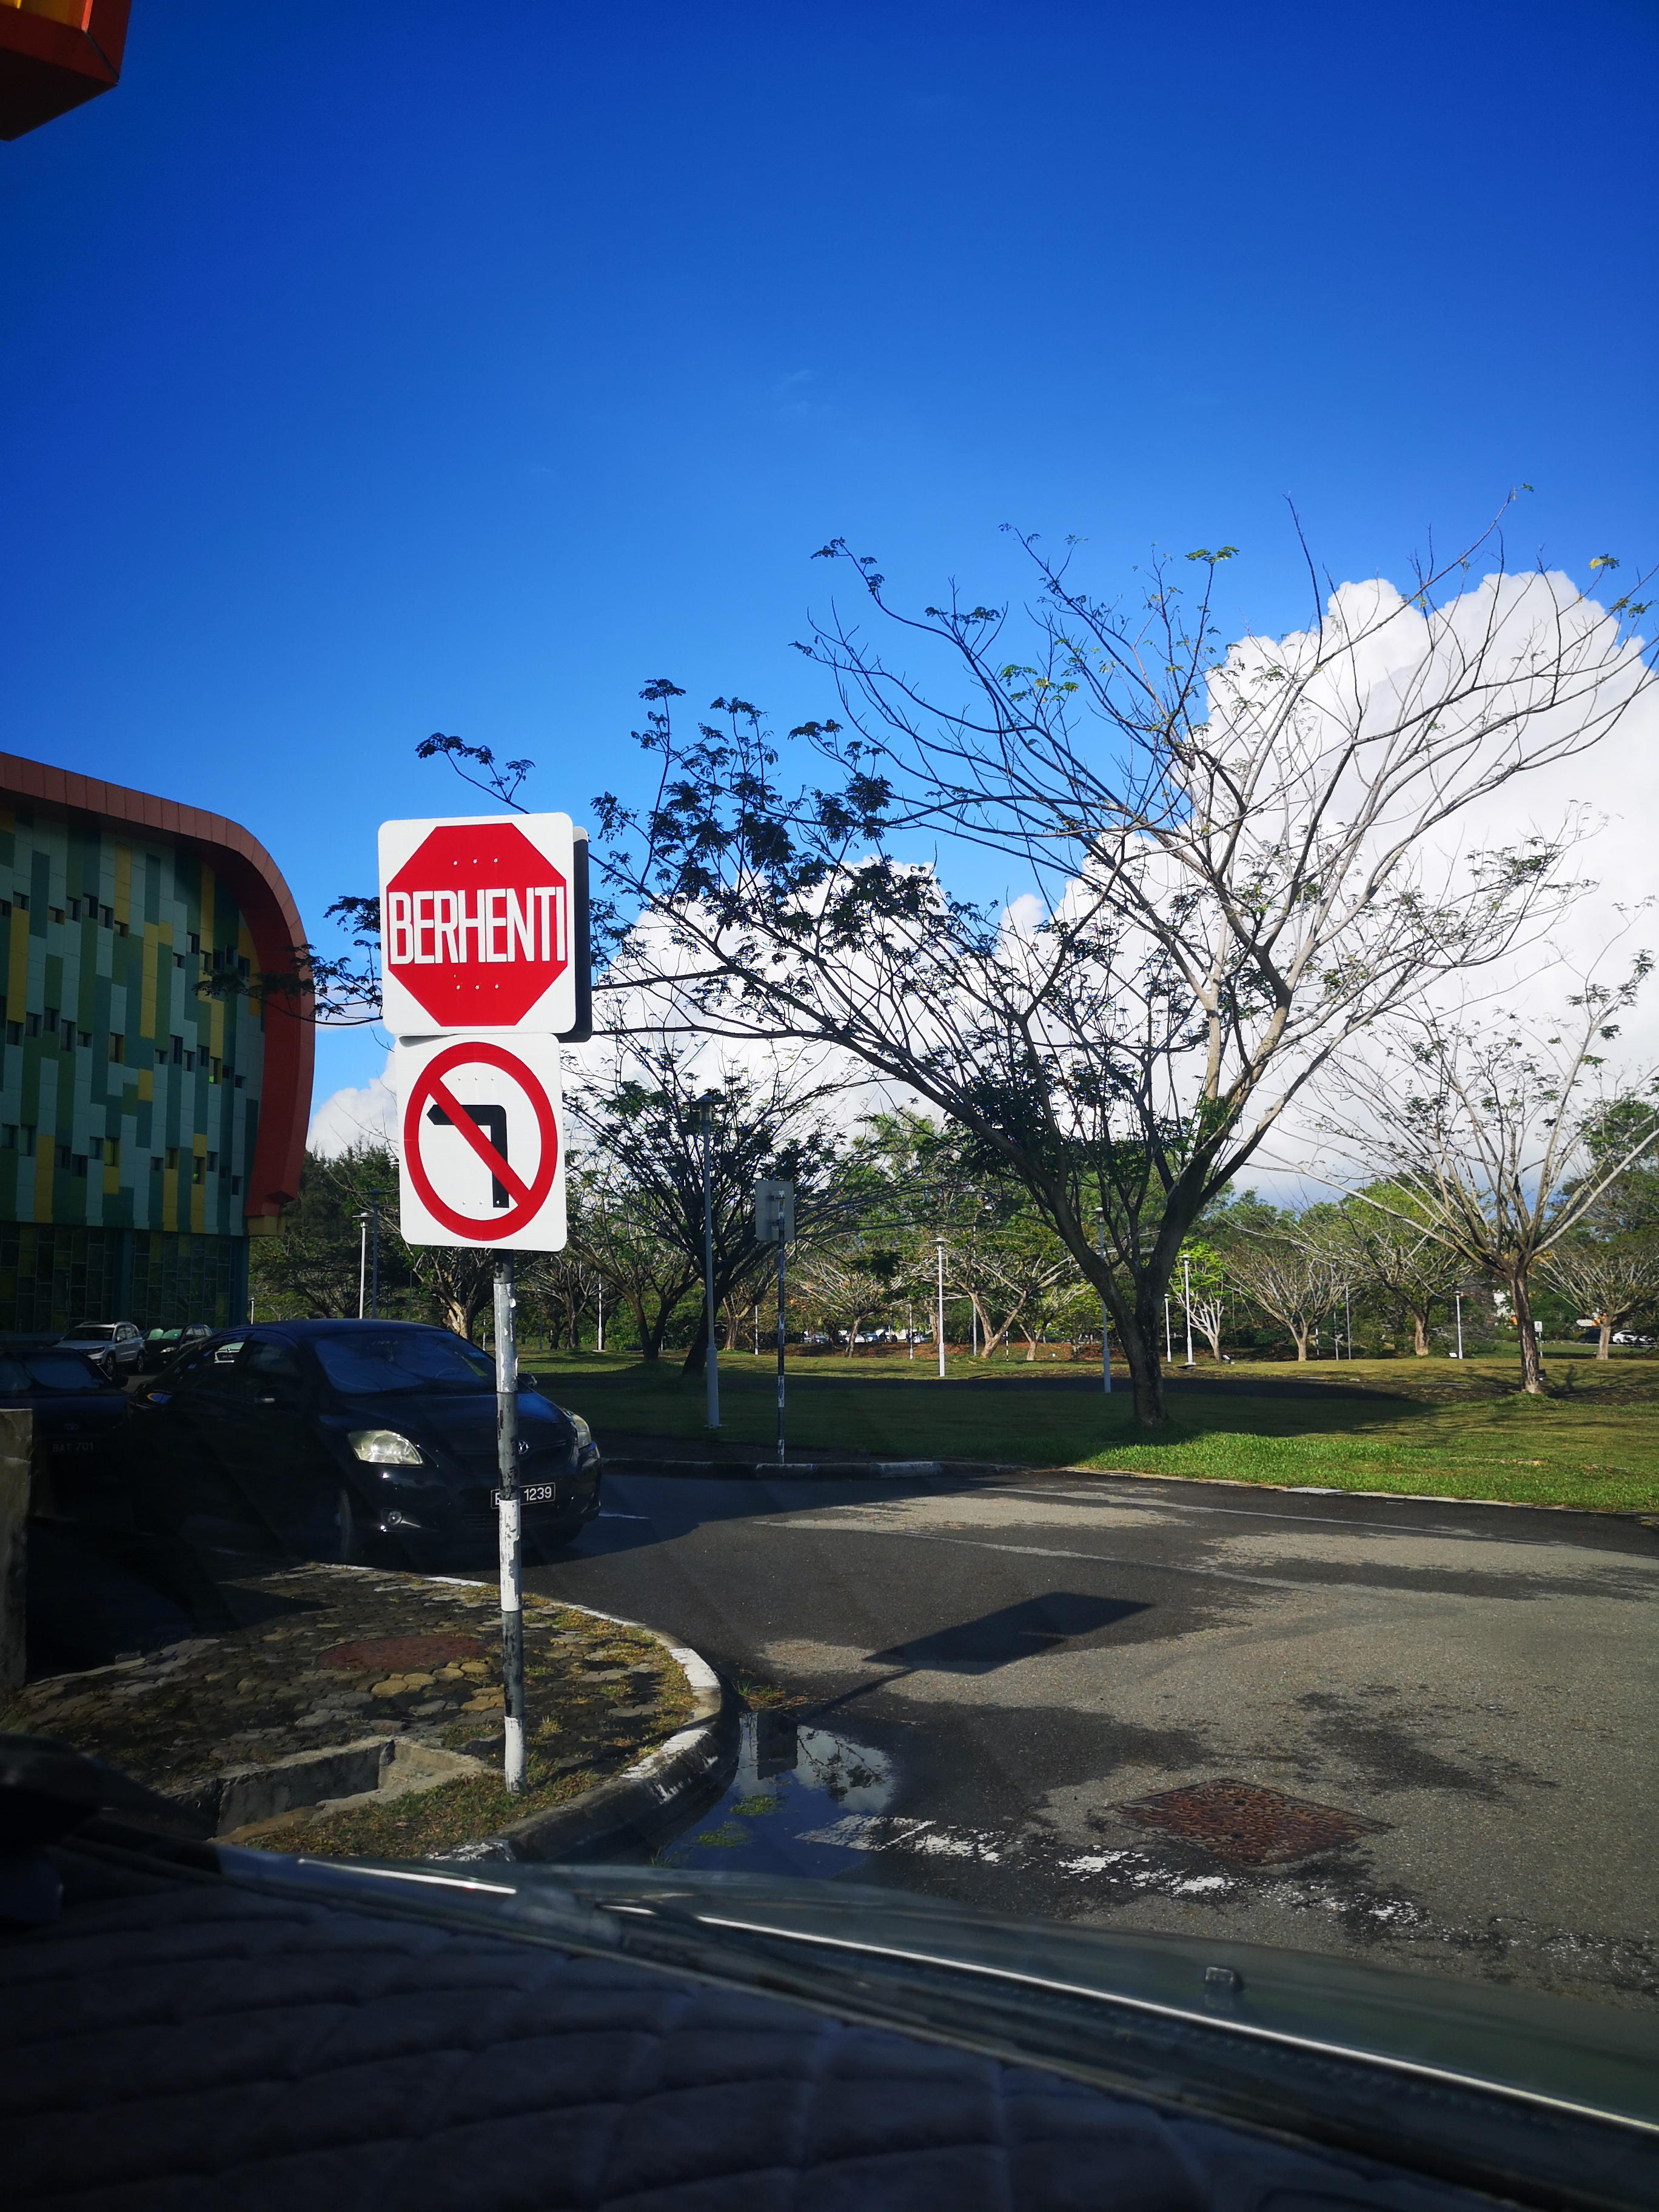no left turn: (394, 1036, 589, 1261)
stop: (385, 813, 591, 1040)
